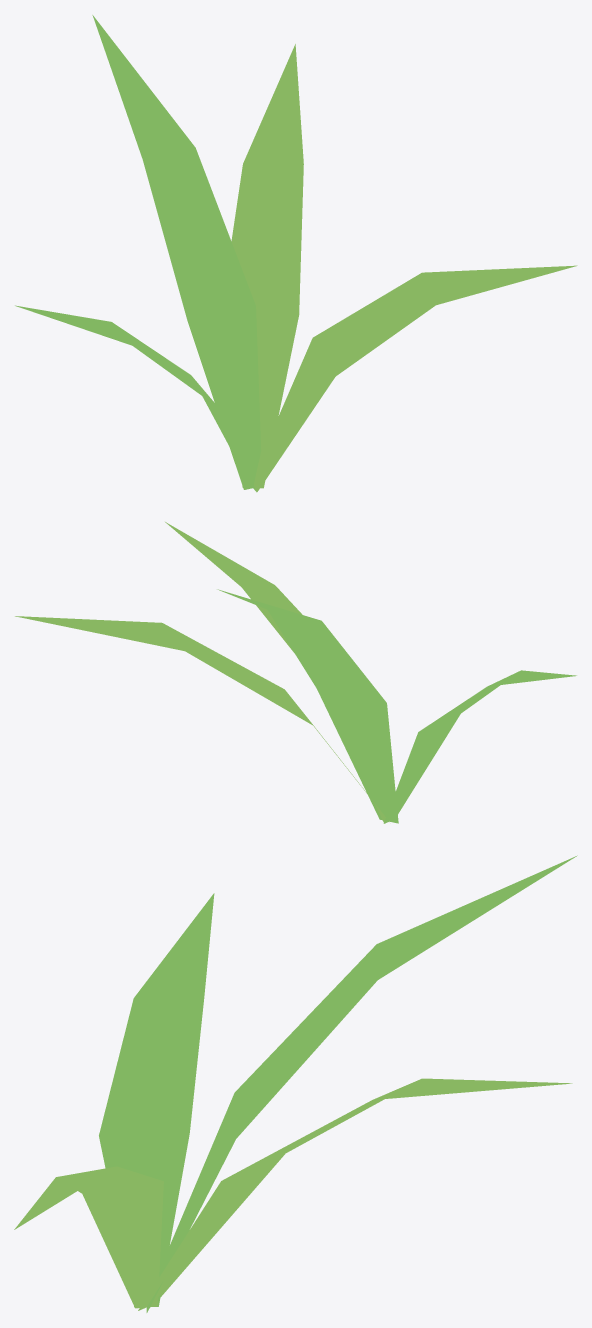
The model's file is Plant_e_TwoS_04.fbx.
3 renders of one model, top to bottom at view 1: azimuth 30°, elevation 25°; view 2: azimuth 150°, elevation 25°; view 3: azimuth 270°, elevation 25°, orthographic. The views are drawn at different scales.
Visible parts, largest first — view 1: Plant_e_TwoS_04; view 2: Plant_e_TwoS_04; view 3: Plant_e_TwoS_04.
Boxes of the visible parts, box(x1,y1,x2,y2) form: Plant_e_TwoS_04: box(15, 15, 577, 492); Plant_e_TwoS_04: box(15, 522, 576, 823); Plant_e_TwoS_04: box(14, 855, 577, 1312).
Bounding box in the file's own units: 0.6713 × 0.4637 × 0.519.
